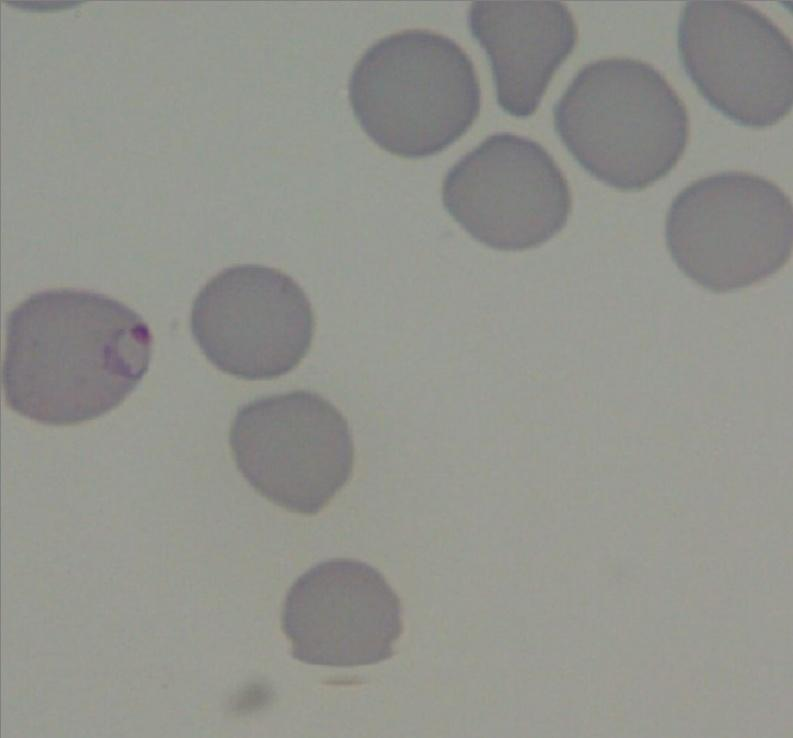Infected: (640, 309, 793, 443)
Uninfected: (104, 545, 237, 679), (436, 219, 565, 347), (316, 581, 445, 705), (224, 489, 353, 606), (0, 607, 113, 738), (0, 447, 128, 559), (478, 359, 603, 471), (392, 69, 516, 179), (214, 623, 321, 738)
